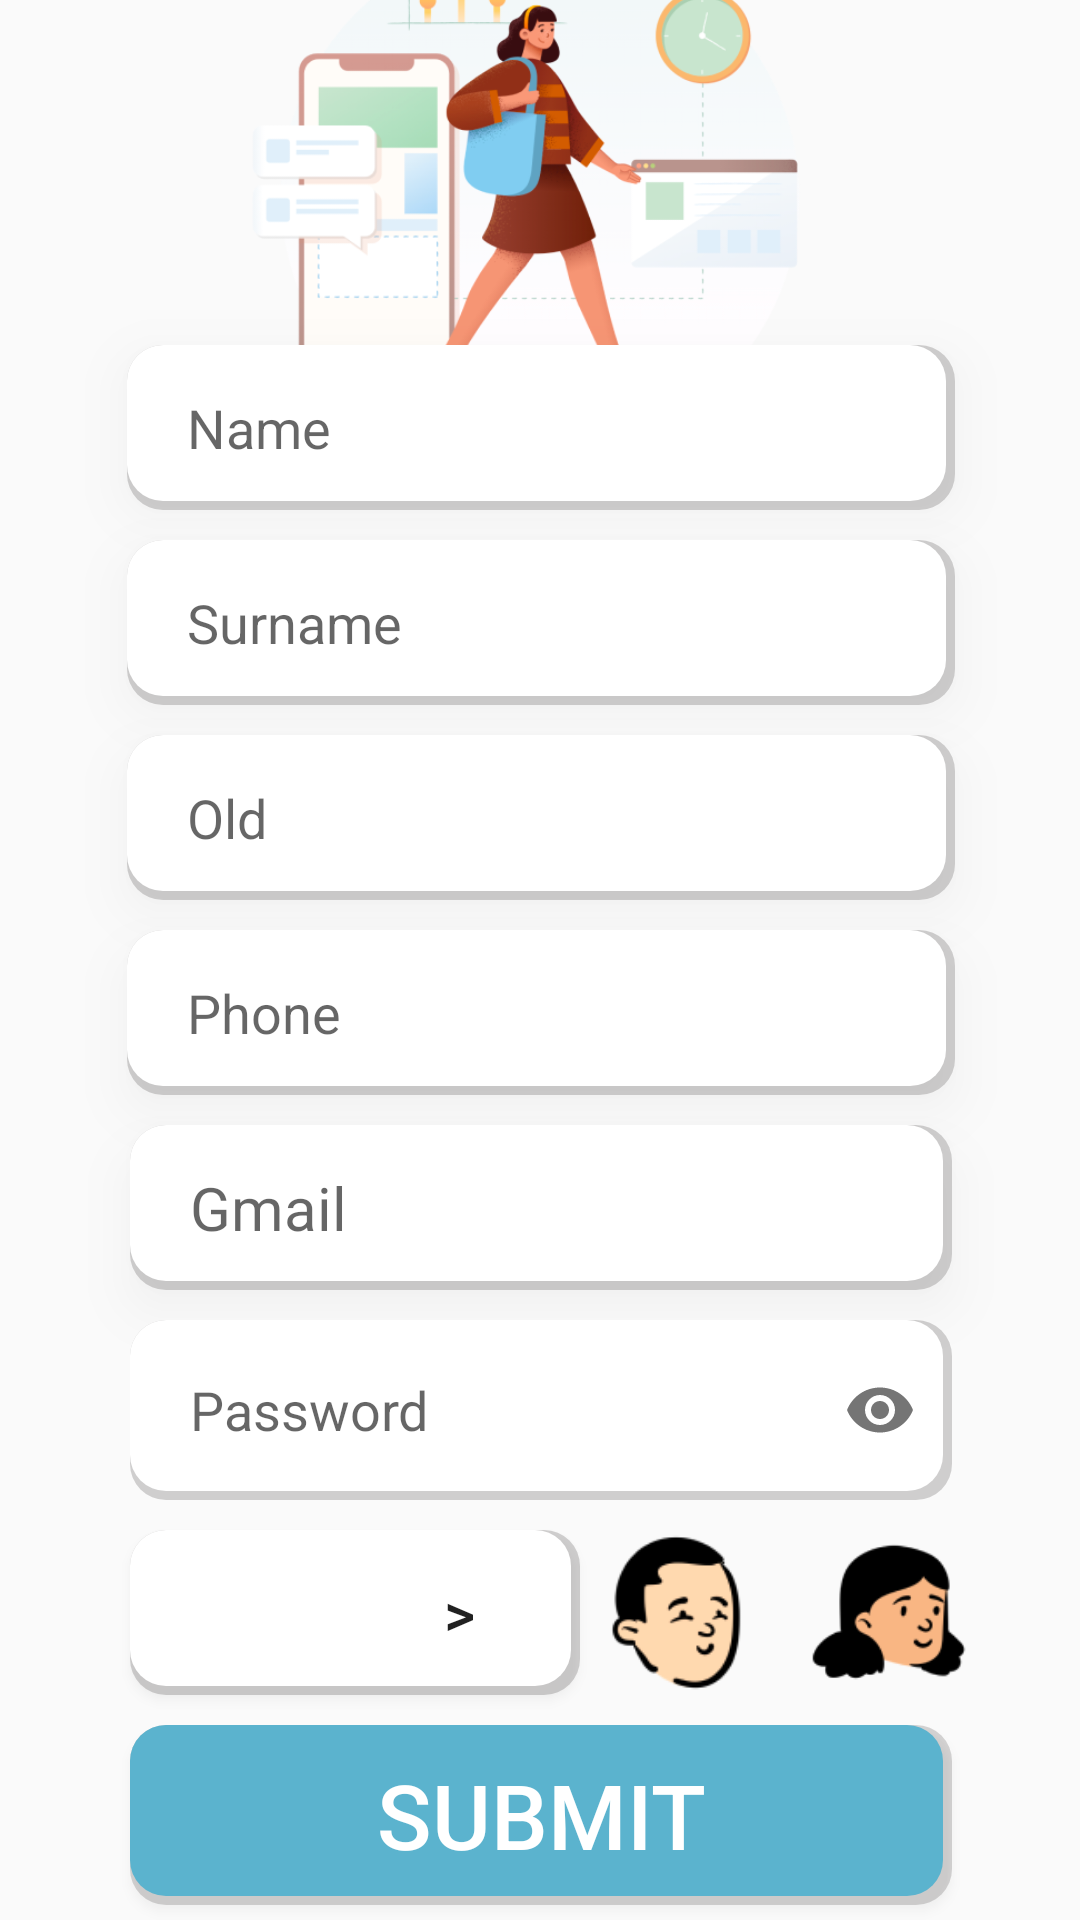

Where icons sit on this 1080*1920 app screen, as (x1, y1, x2, y2):
imgefemale: (812, 1545, 965, 1679)
imgemale: (612, 1537, 741, 1689)
